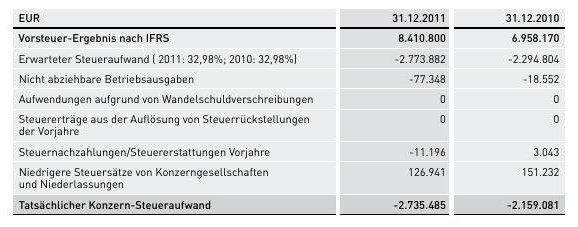table: (0, 0, 578, 227)
